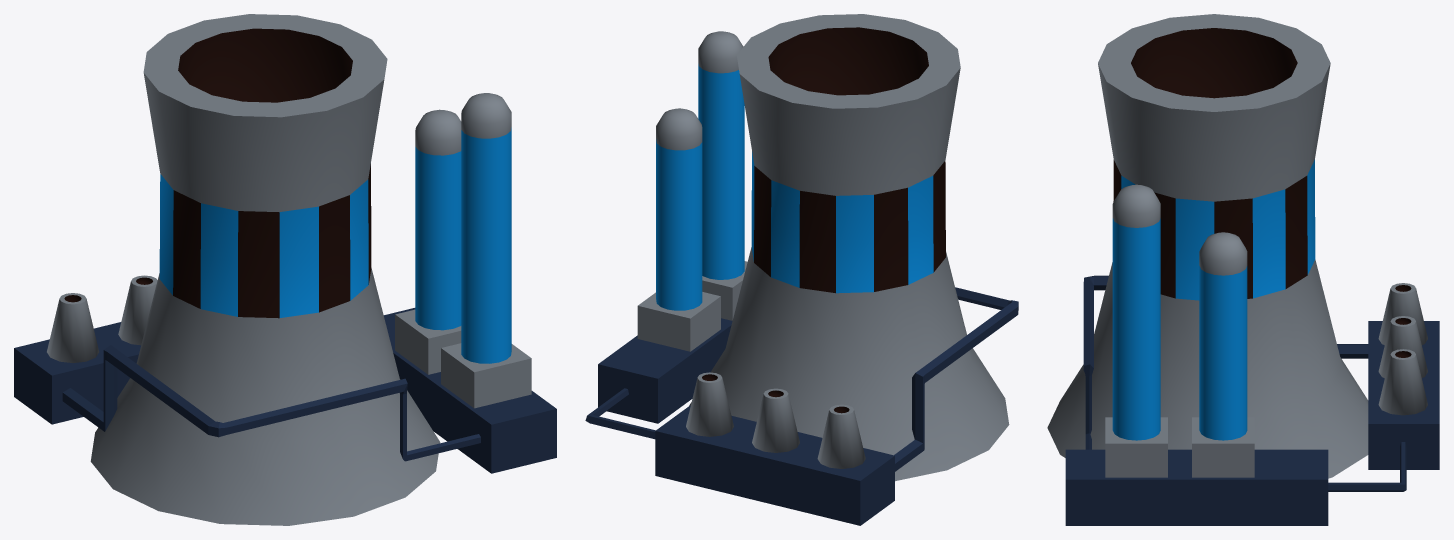
File: 2025-01-29-Boswell-RescaledNuclearPlant-v004.fbx
The picture shows the model from 3 angles, left to right: view 1: azimuth 30°, elevation 25°; view 2: azimuth 150°, elevation 25°; view 3: azimuth 270°, elevation 25°; orthographic projection. The views are drawn at different scales.
Visible parts, largest first — view 1: Cylinder, Cube.001, Cube.002, Cube.004, Elbow Joint.001, Cube.003, Cylinder.001, Cylinder.002; view 2: Cylinder, Cube.003, Cube.002, Cube.001, Cube.004, Elbow Joint.001, Cylinder.001, Cylinder.003, Cylinder.002, Elbow Joint; view 3: Cylinder, Cube.004, Cube.001, Cube.002, Cube.003, Cylinder.003, Elbow Joint.001, Cylinder.002, Cylinder.001, Elbow Joint.
Part boxes in pixels (<box>): Cylinder: <box>90,14,440,525</box>; Cube.001: <box>441,93,531,408</box>; Cube.002: <box>395,109,461,374</box>; Cube.004: <box>383,308,556,473</box>; Elbow Joint.001: <box>62,345,480,461</box>; Cube.003: <box>14,322,140,424</box>; Cylinder.001: <box>47,293,99,362</box>; Cylinder.002: <box>118,275,157,345</box>; Cylinder: <box>689,14,1009,481</box>; Cube.003: <box>655,405,894,525</box>; Cube.002: <box>637,108,720,351</box>; Cube.001: <box>698,31,747,320</box>; Cube.004: <box>598,318,732,423</box>; Elbow Joint.001: <box>894,287,1018,471</box>; Cylinder.001: <box>817,404,865,468</box>; Cylinder.003: <box>686,372,733,436</box>; Cylinder.002: <box>752,388,799,452</box>; Elbow Joint: <box>585,388,655,439</box>; Cylinder: <box>1047,14,1368,478</box>; Cube.004: <box>1065,449,1328,525</box>; Cube.001: <box>1105,184,1167,477</box>; Cube.002: <box>1192,232,1254,477</box>; Cube.003: <box>1368,321,1439,469</box>; Cylinder.003: <box>1378,349,1427,415</box>; Elbow Joint.001: <box>1083,275,1368,449</box>; Cylinder.002: <box>1378,316,1427,378</box>; Cylinder.001: <box>1378,283,1427,345</box>; Elbow Joint: <box>1328,442,1406,491</box>.
Size of the model in its own units: 567 by 574 by 559.
